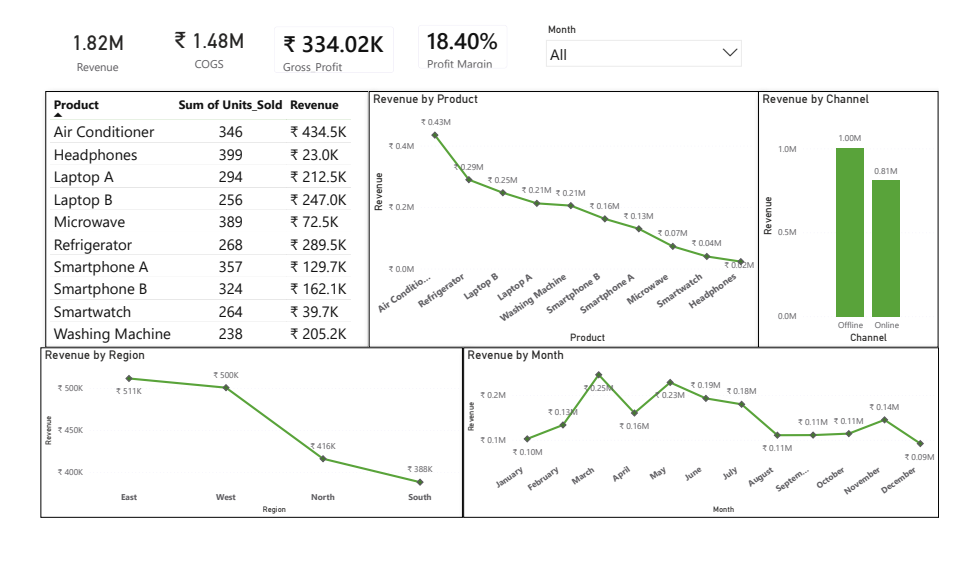

The dashboard page shown, as its layout file describes it:
{"tool":"powerbi","page":{"name":"Sales View","canvas":[1280,720],"ordinal":0},"visuals":[{"type":"card","fields":{"Values":["Dim_channel.Revenue"]},"box":[0,11,163.3,82.3],"z":0},{"type":"tableEx","fields":{"Values":["Sales_Table.Product","Sum(Sales_Table.Units Sold)","Dim_channel.Revenue"]},"box":[6.9,111.1,461.1,366.4],"z":1000},{"type":"card","fields":{"Values":["Dim_channel.COGS"]},"box":[178.4,6.9,123.5,82.3],"z":2000},{"type":"cardVisual","fields":{"Data":["Dim_channel.Gross_Profit"]},"box":[315.6,2.7,205.8,100.2],"z":3000},{"type":"cardVisual","fields":{"Data":["Dim_channel.Profit Margin"]},"box":[521.4,0,161.9,96.1],"z":4000},{"type":"lineChart","fields":{"Category":["Product_Table.Product"],"Y":["Dim_channel.Revenue"]},"box":[467.9,111.1,555.7,366.4],"z":5000},{"type":"lineChart","fields":{"Y":["Dim_channel.Revenue"],"Category":["Dim_region.Region"]},"box":[0,477.5,602.4,242.9],"z":6000},{"type":"columnChart","fields":{"Category":["Dim_channel.Channel"],"Y":["Dim_channel.Revenue"]},"box":[1023.7,111.1,256.6,366.4],"z":7000},{"type":"lineChart","fields":{"Y":["Dim_channel.Revenue"],"Category":["Dim_date.Date.Variation.Date Hierarchy.Month"]},"box":[602.4,477.5,677.9,242.9],"z":8000},{"type":"slicer","fields":{"Values":["Dim_date.Month.Variation.Date Hierarchy.Month"]},"box":[710.8,11,299.1,89.2],"z":9000}]}

Visuals, with their boxes on the page's 1280x720 design canvas (x1, y1, x2, y2). These are canvas units, not pixel positions in the 966x585 screenshot, which may show the page scaled, cropped or inside an application window:
card - Dim_channel.Revenue: (0,11,163,93)
tableEx - Sales_Table.Product x Sum(Sales_Table.Units Sold): (7,111,468,478)
card - Dim_channel.COGS: (178,7,302,89)
cardVisual - Dim_channel.Gross_Profit: (316,3,521,103)
cardVisual - Dim_channel.Profit Margin: (521,0,683,96)
lineChart - Product_Table.Product x Dim_channel.Revenue: (468,111,1024,478)
lineChart - Dim_channel.Revenue x Dim_region.Region: (0,478,602,720)
columnChart - Dim_channel.Channel x Dim_channel.Revenue: (1024,111,1280,478)
lineChart - Dim_channel.Revenue x Dim_date.Date.Variation.Date Hierarchy.Month: (602,478,1280,720)
slicer - Dim_date.Month.Variation.Date Hierarchy.Month: (711,11,1010,100)
